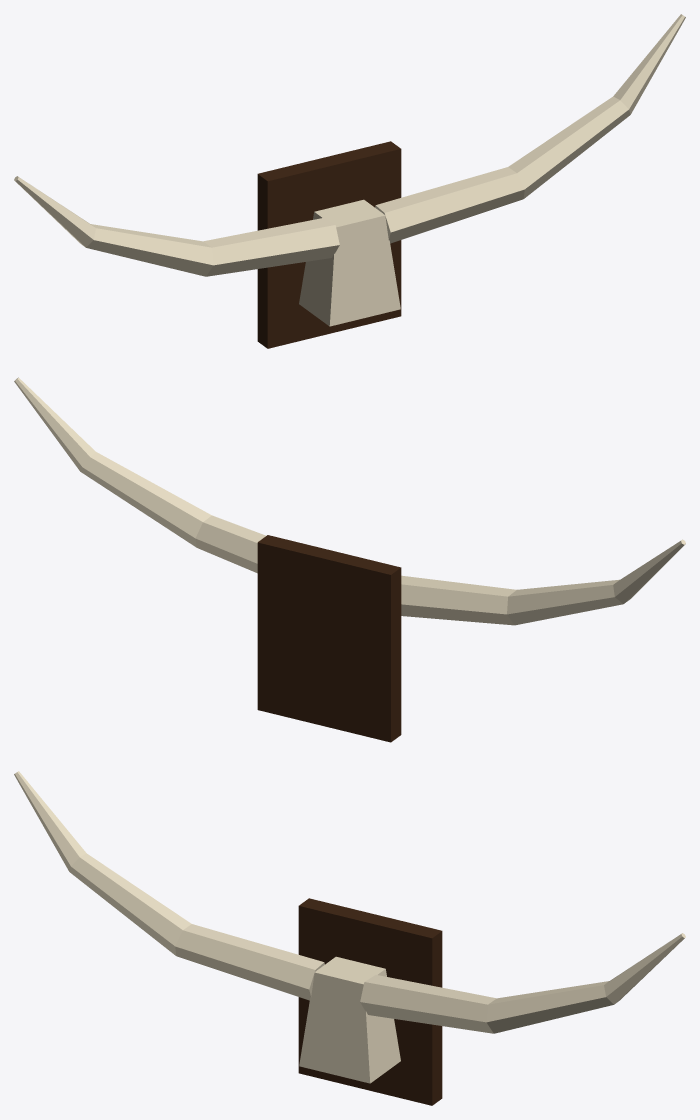
Rendered from SM_Horns_Wall.obj.
3 renders of one model, top to bottom at view 1: azimuth 30°, elevation 25°; view 2: azimuth 150°, elevation 25°; view 3: azimuth 330°, elevation 25°, orthographic.
Parts seen in each view (by area): view 1: SM_Horns_Wall; view 2: SM_Horns_Wall; view 3: SM_Horns_Wall.
Part boxes in pixels (x1,y1,x2,y2): SM_Horns_Wall: (14,14,685,348); SM_Horns_Wall: (14,377,685,742); SM_Horns_Wall: (14,771,685,1105).
Size of the model in its own units: 1.51 by 0.5339 by 0.175.
